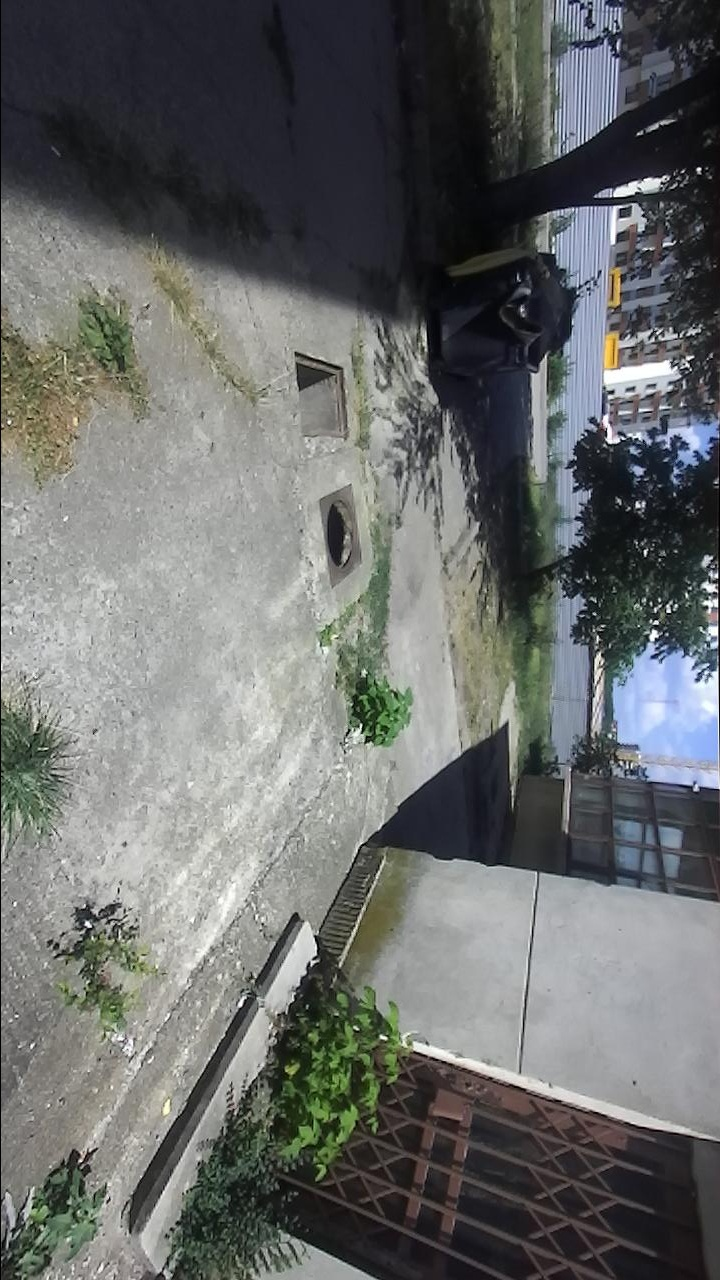drain: (291, 347, 351, 440), (322, 494, 357, 571)
